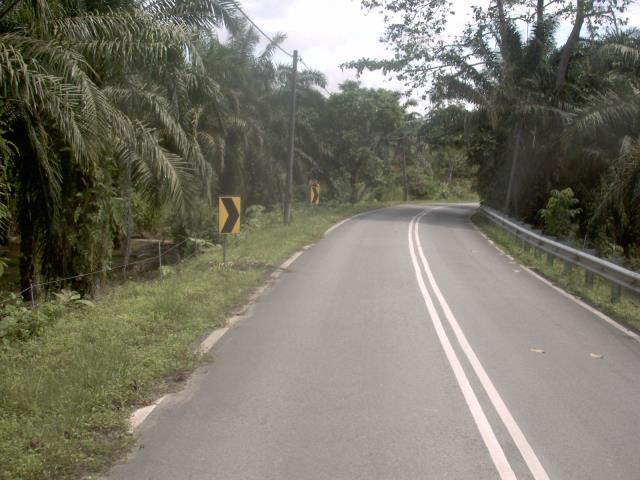traffic_sign: (212, 189, 249, 240)
